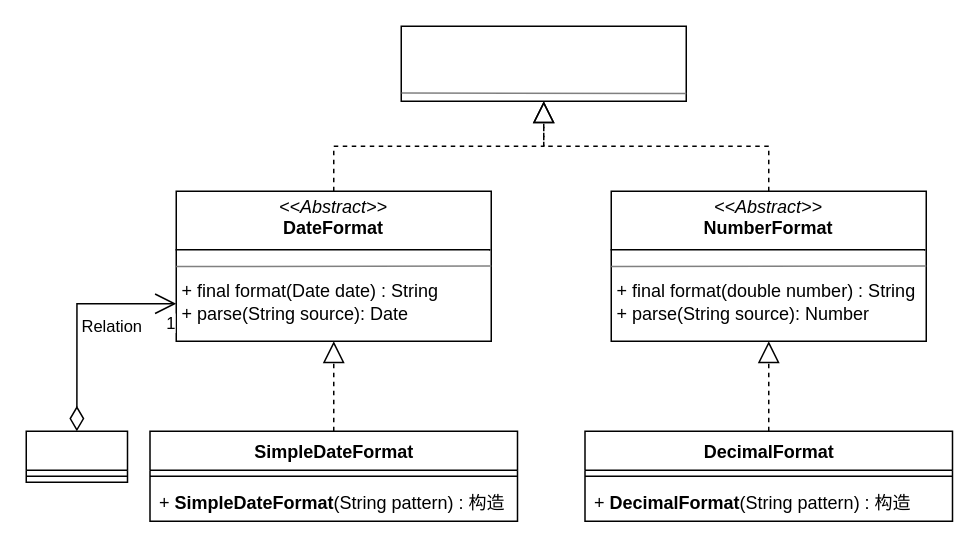
Image size: 980x552. Some labels were removed from this diagram. The centre of each missing label's shape, as x and y in pixels:
"<<Abstract>> Format" goes at (543,63).
"Date" goes at (76,456).
